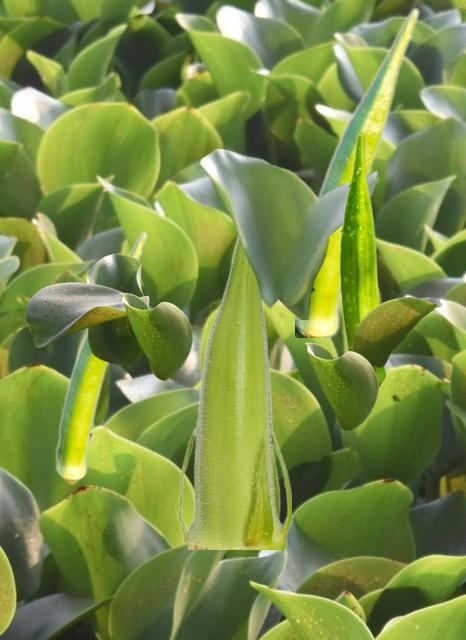okra: (295, 6, 418, 336), (176, 236, 290, 548), (55, 230, 147, 484), (339, 131, 386, 390)
